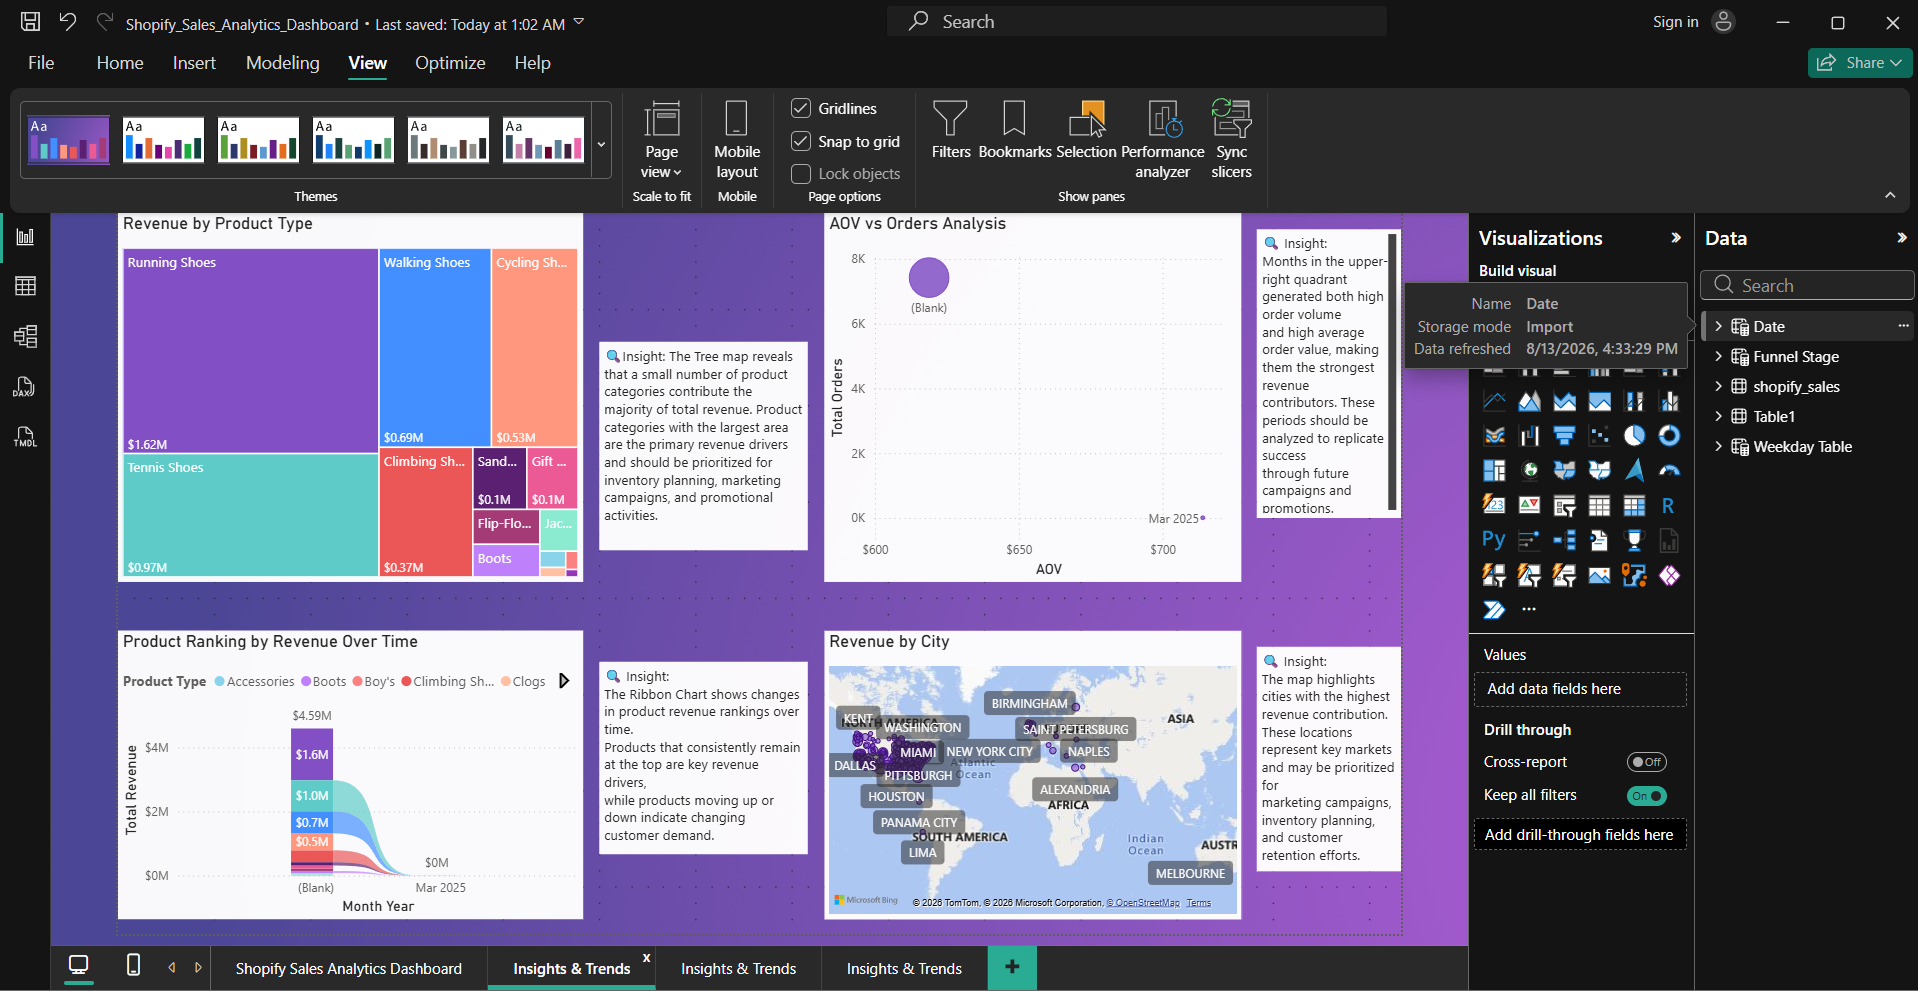

The page's visual inventory and layout, read from the dashboard file:
{"tool":"powerbi","page":{"name":"Insights & Trends","canvas":[1280,720],"ordinal":1},"visuals":[{"type":"treemap","title":"Revenue by Product Type","fields":{"Group":["shopify_sales.Product Type"],"Values":["Date.Total Revenue"]},"box":[0,0,650,350],"z":0},{"type":"textbox","box":[16,112,320,80],"z":1000},{"type":"ribbonChart","title":"Product Ranking by Revenue Over Time","fields":{"Category":["Date.Month Year"],"Series":["shopify_sales.Product Type"],"Y":["Date.Total Revenue"]},"box":[0,360,700,350],"z":2000},{"type":"textbox","box":[368,464,320,96],"z":3000},{"type":"scatterChart","title":"AOV vs Orders Analysis","fields":{"X":["Date.AOV"],"Y":["Date.Total Orders"],"Size":["Date.Total Revenue"],"Category":["Date.Month Year"]},"box":[660,0,620,350],"z":4000},{"type":"textbox","box":[800,112,448,96],"z":5000},{"type":"map","title":"Revenue by City","fields":{"Category":["shopify_sales.CITY"],"Size":["Date.Total Revenue"]},"box":[704,368,576,288],"z":6000},{"type":"textbox","box":[704,656,576,64],"z":7000}]}

Visuals, with their boxes on the page's 1280x720 design canvas (x1, y1, x2, y2). These are canvas units, not pixel positions in the 1918x991 screenshot, which may show the page scaled, cropped or inside an application window:
"Revenue by Product Type" treemap: l=0, t=0, r=650, b=350
textbox: l=16, t=112, r=336, b=192
"Product Ranking by Revenue Over Time" ribbonChart: l=0, t=360, r=700, b=710
textbox: l=368, t=464, r=688, b=560
"AOV vs Orders Analysis" scatterChart: l=660, t=0, r=1280, b=350
textbox: l=800, t=112, r=1248, b=208
"Revenue by City" map: l=704, t=368, r=1280, b=656
textbox: l=704, t=656, r=1280, b=720
